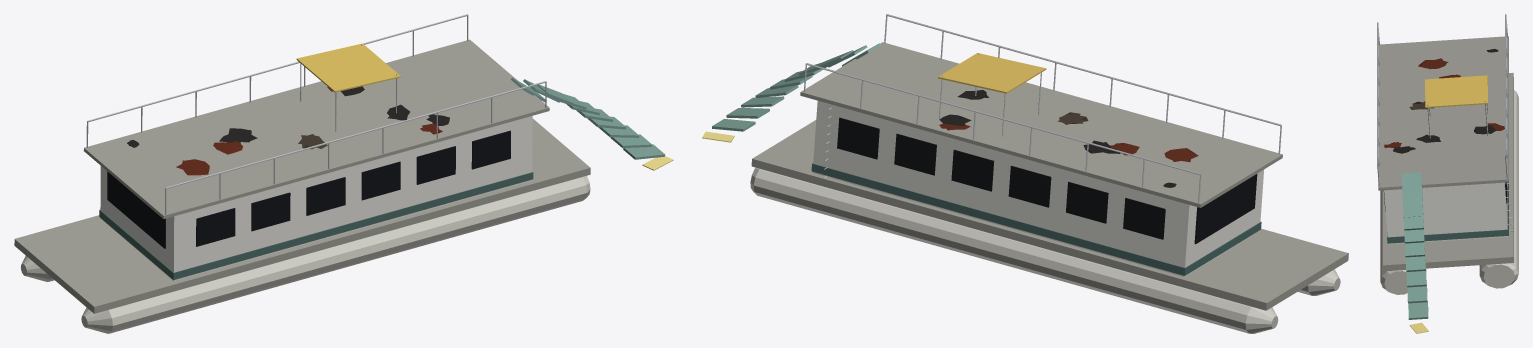
The model's file is marina_houseboat.glb.
The picture shows the model from 3 angles, left to right: view 1: azimuth 30°, elevation 25°; view 2: azimuth 150°, elevation 25°; view 3: azimuth 270°, elevation 25°; orthographic projection. The views are drawn at different scales.
Visible parts, largest first — view 1: marina_houseboat; view 2: marina_houseboat; view 3: marina_houseboat.
Part boxes in pixels (<box>): marina_houseboat: <box>14,14,673,333</box>; marina_houseboat: <box>702,14,1348,333</box>; marina_houseboat: <box>1377,14,1518,333</box>.
Bounding box in the file's own units: 21.75 × 6 × 5.41.
